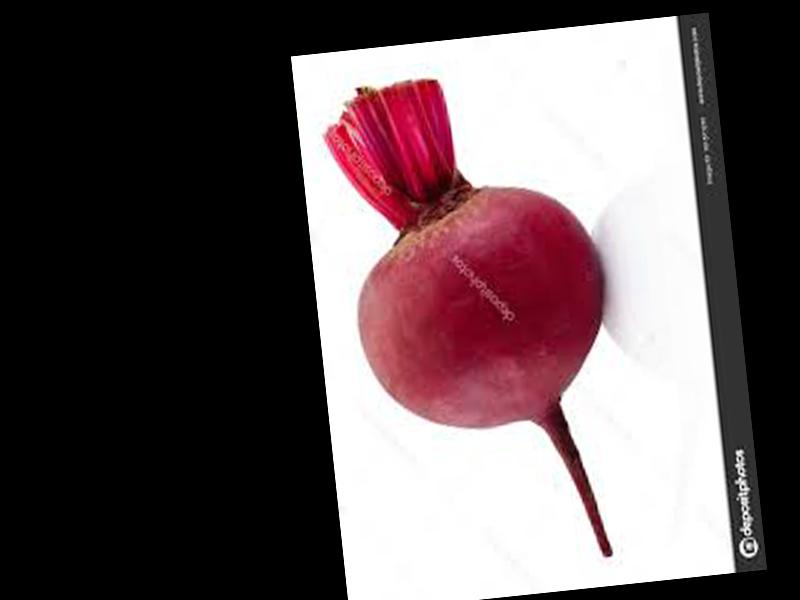Beet: (321, 61, 632, 581)
